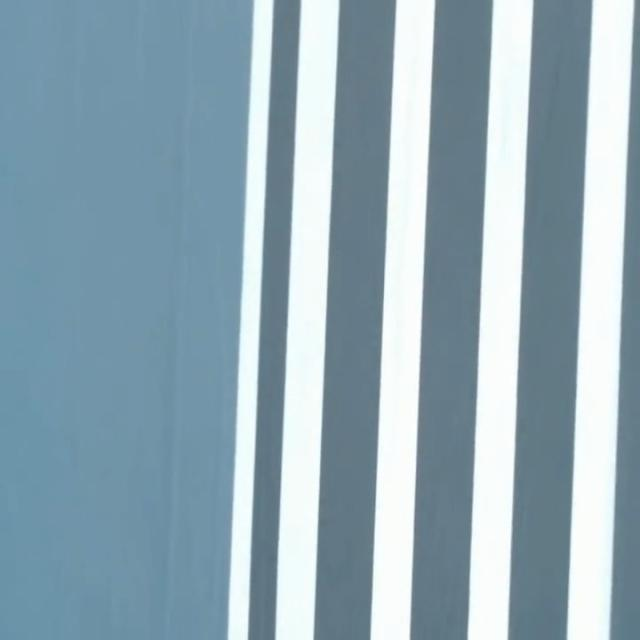left: (228, 0, 273, 639)
